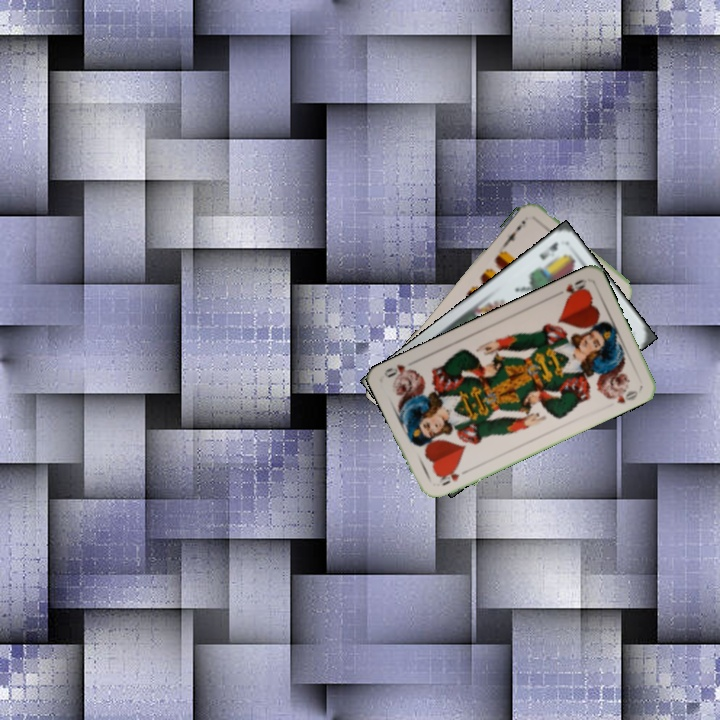E7: (501, 216, 528, 247)
EK: (535, 238, 561, 263)
HO: (561, 275, 589, 301), (435, 465, 462, 488)
